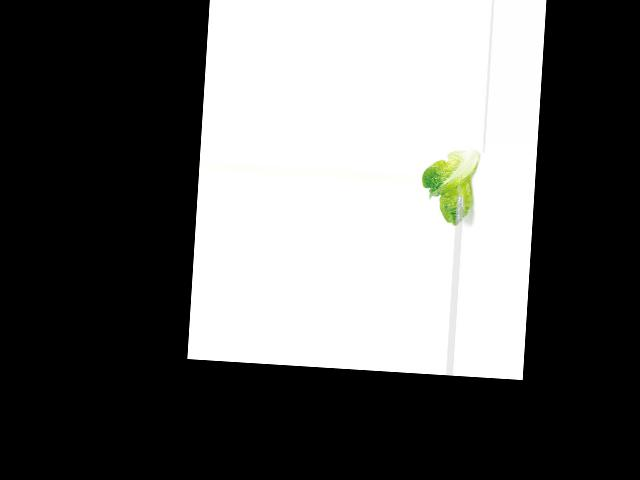lettuce: (418, 144, 477, 228)
